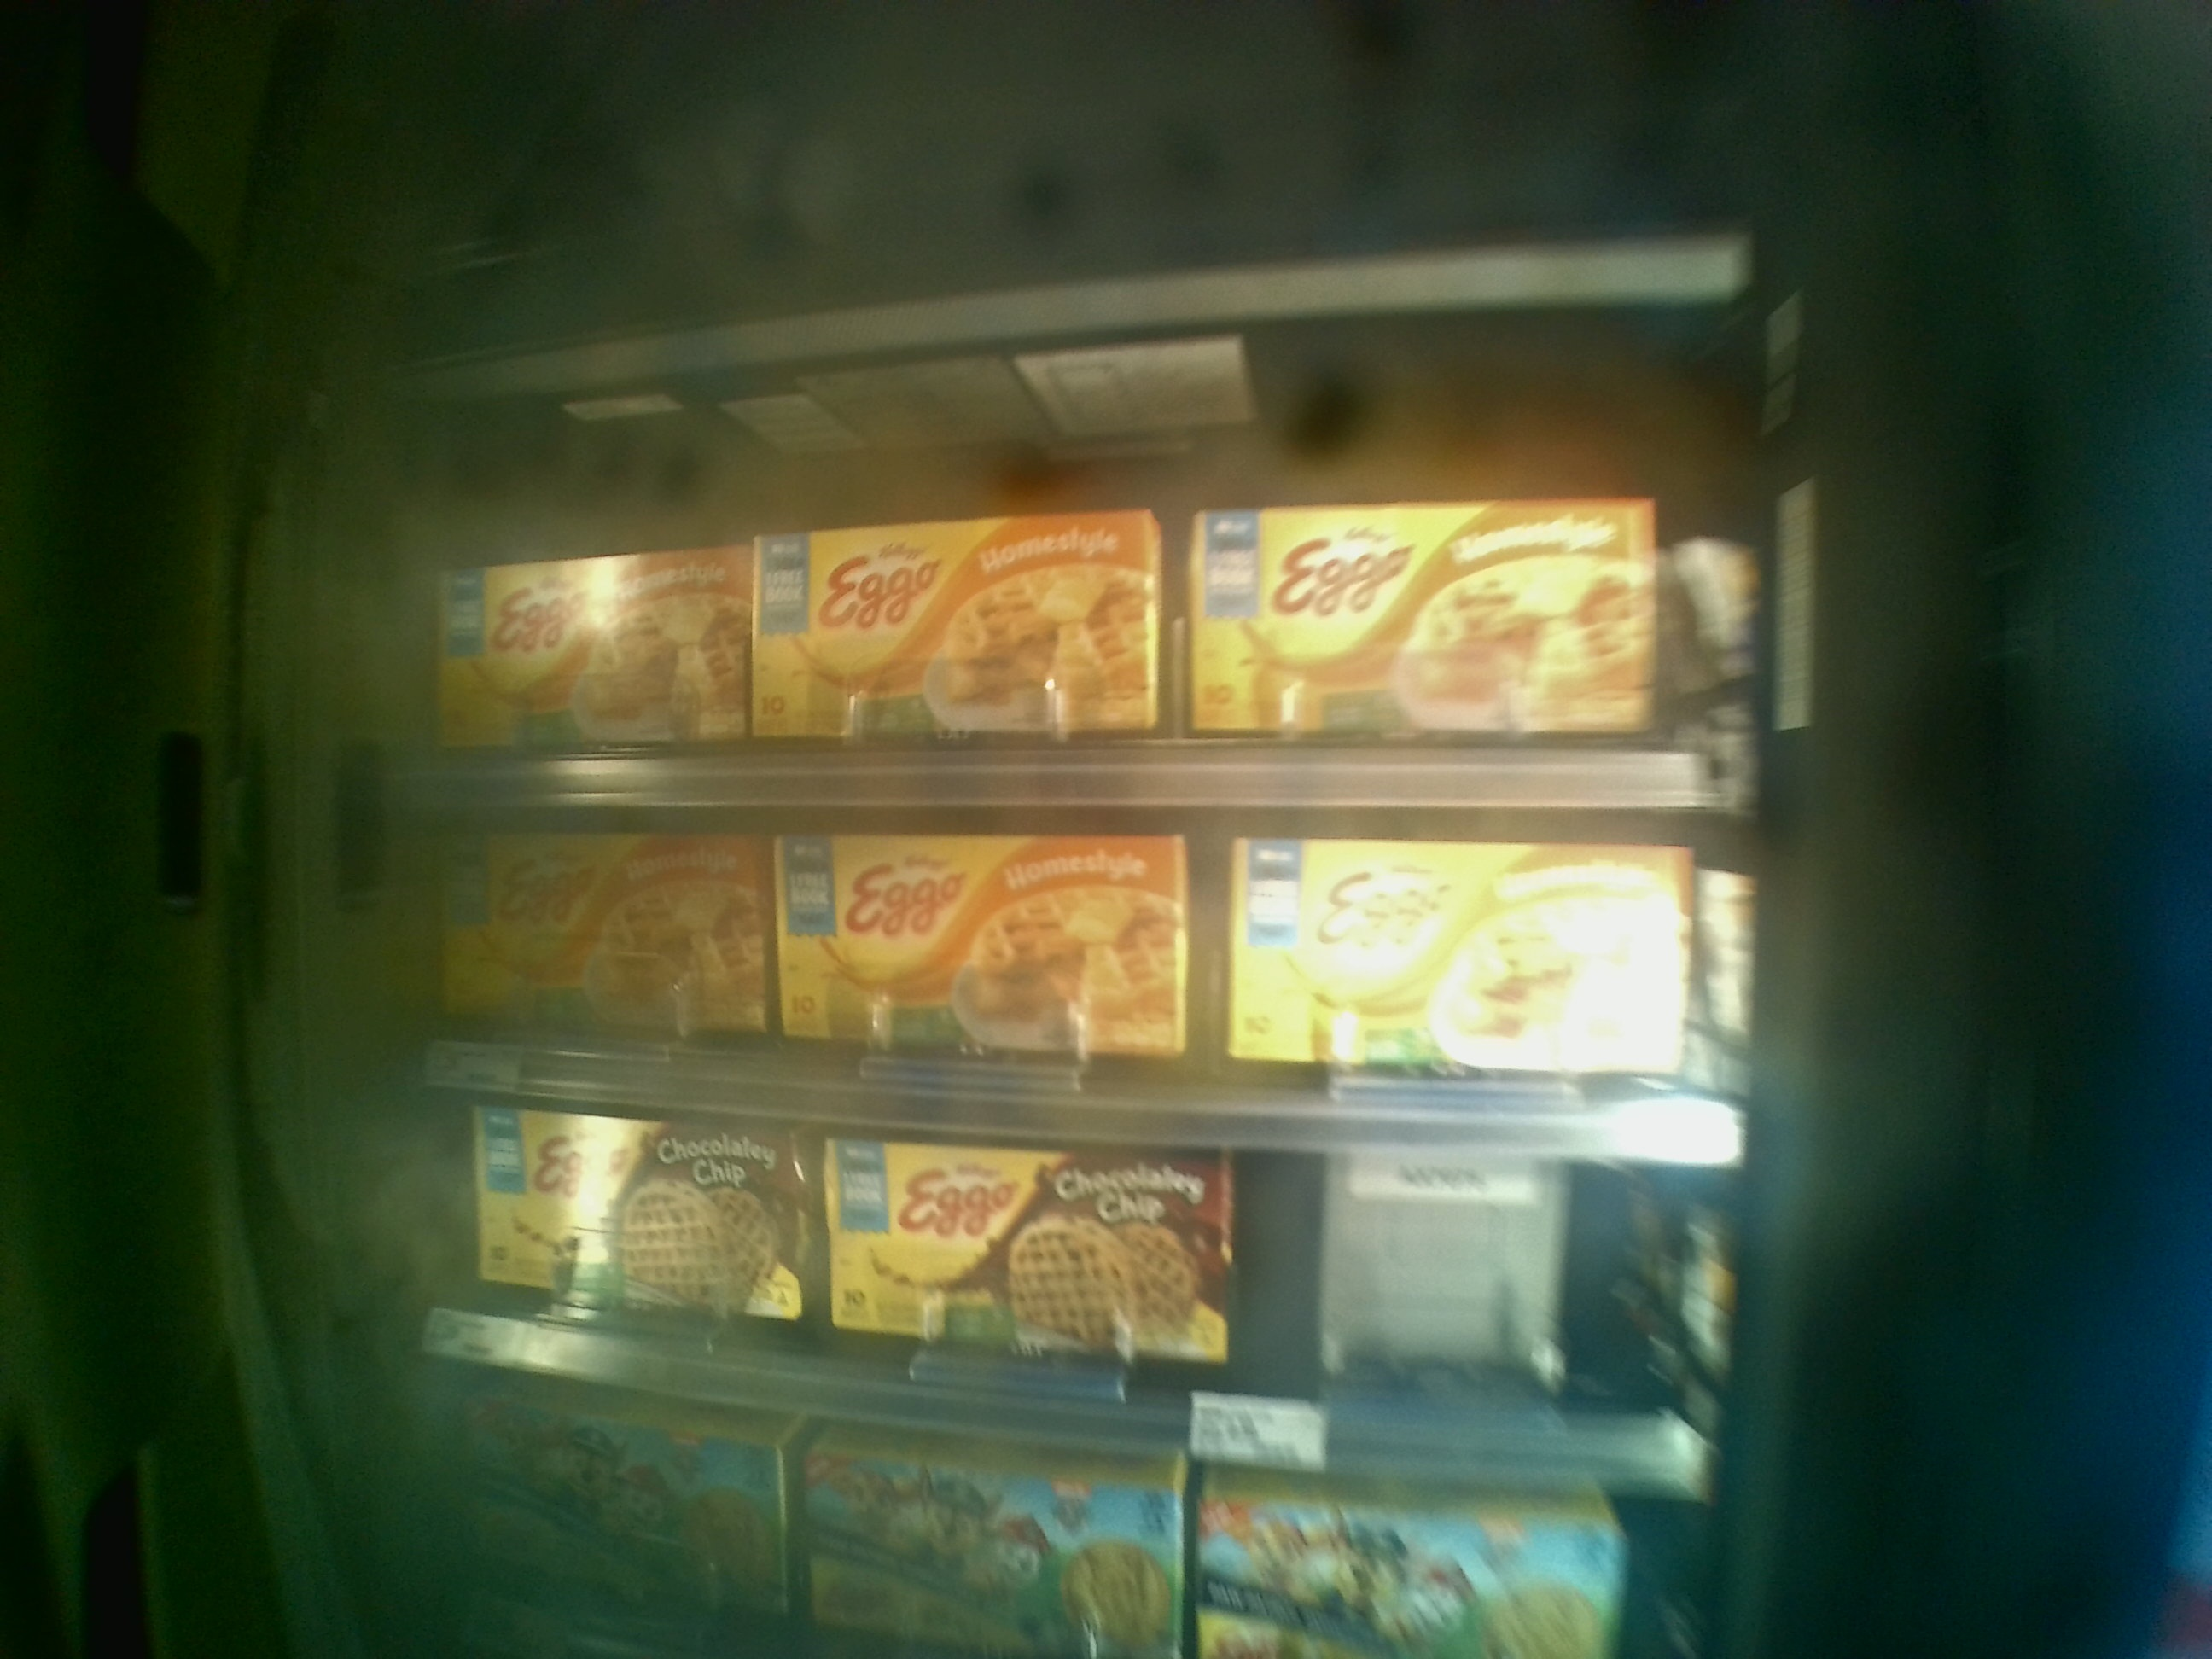shelf: (369, 390, 1740, 812), (371, 812, 1757, 1173)
